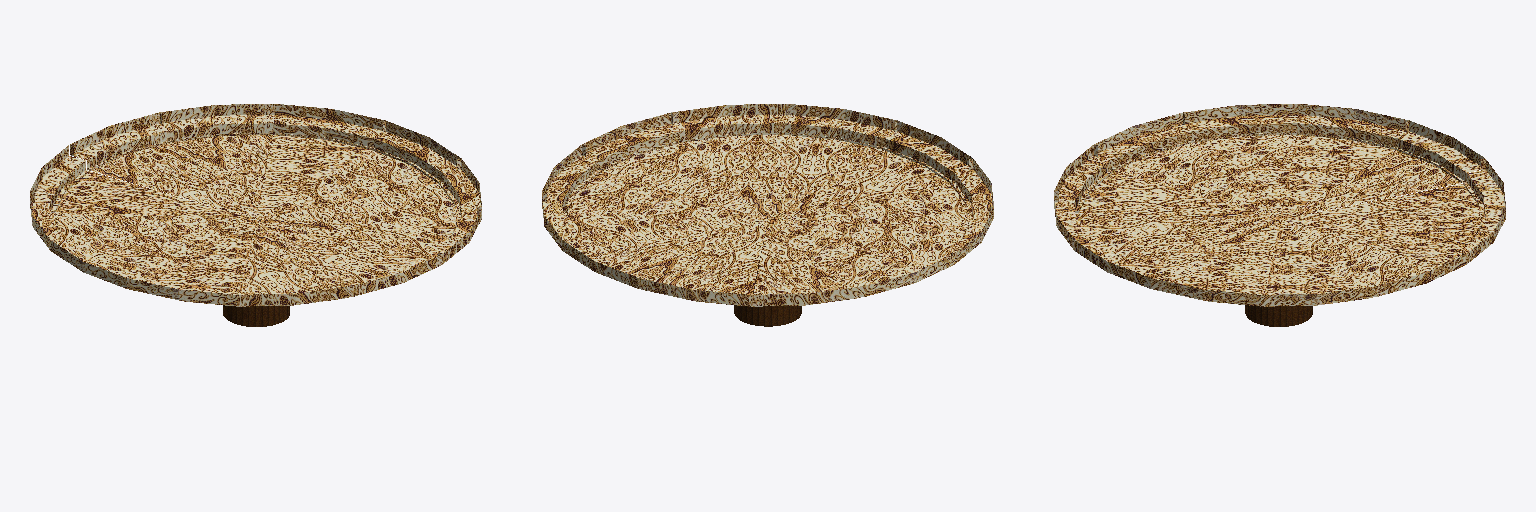
3 renders of one model, left to right at view 1: azimuth 30°, elevation 25°; view 2: azimuth 150°, elevation 25°; view 3: azimuth 270°, elevation 25°, orthographic.
Parts seen in each view (by area): view 1: Group_3_008.001, Group_3_007.001, Group_3_001.001, Group_3_002.001, Group_3_005.001, Group_3_003.001, Group_3_012.001, Group_3_006.001, Group_3_011.001, Group_3_004.001, Group_3_010.001, Group_3_009.001 (+1 smaller); view 2: Group_3_006.001, Group_3_004.001, Group_3_003.001, Group_3_010.001, Group_3_002.001, Group_3_009.001, Group_3_007.001, Group_3_011.001, Group_3_008.001, Group_3_012.001, Group_3_005.001, Group_3_001.001 (+1 smaller); view 3: Group_3_011.001, Group_3_012.001, Group_3_009.001, Group_3_005.001, Group_3_010.001, Group_3_001.001, Group_3_004.001, Group_3_008.001, Group_3_006.001, Group_3_007.001, Group_3_002.001, Group_3_003.001 (+1 smaller).
Part boxes in pixels (left/top/right/bottom): Group_3_008.001: left=160, top=104, right=274, bottom=218; Group_3_007.001: left=256, top=104, right=385, bottom=218; Group_3_001.001: left=70, top=112, right=255, bottom=219; Group_3_002.001: left=256, top=121, right=460, bottom=219; Group_3_005.001: left=30, top=145, right=254, bottom=219; Group_3_003.001: left=257, top=158, right=481, bottom=226; Group_3_012.001: left=30, top=198, right=251, bottom=254; Group_3_006.001: left=259, top=207, right=481, bottom=265; Group_3_011.001: left=51, top=220, right=254, bottom=288; Group_3_004.001: left=257, top=220, right=442, bottom=298; Group_3_010.001: left=237, top=220, right=352, bottom=306; Group_3_009.001: left=127, top=220, right=255, bottom=306; Group_3_006.001: left=671, top=104, right=786, bottom=218; Group_3_004.001: left=768, top=104, right=896, bottom=218; Group_3_003.001: left=582, top=113, right=767, bottom=219; Group_3_010.001: left=768, top=120, right=972, bottom=219; Group_3_002.001: left=542, top=145, right=766, bottom=219; Group_3_009.001: left=769, top=159, right=993, bottom=226; Group_3_007.001: left=542, top=198, right=763, bottom=254; Group_3_011.001: left=771, top=207, right=993, bottom=265; Group_3_008.001: left=562, top=220, right=766, bottom=288; Group_3_012.001: left=769, top=220, right=954, bottom=298; Group_3_005.001: left=749, top=220, right=864, bottom=306; Group_3_001.001: left=638, top=220, right=767, bottom=306; Group_3_011.001: left=1183, top=104, right=1297, bottom=218; Group_3_012.001: left=1280, top=104, right=1408, bottom=218; Group_3_009.001: left=1094, top=113, right=1279, bottom=219; Group_3_005.001: left=1280, top=120, right=1484, bottom=219; Group_3_010.001: left=1054, top=145, right=1278, bottom=219; Group_3_001.001: left=1281, top=159, right=1505, bottom=226; Group_3_004.001: left=1054, top=198, right=1275, bottom=254; Group_3_008.001: left=1283, top=207, right=1505, bottom=265; Group_3_006.001: left=1075, top=220, right=1278, bottom=288; Group_3_007.001: left=1281, top=220, right=1465, bottom=298; Group_3_002.001: left=1261, top=220, right=1376, bottom=306; Group_3_003.001: left=1151, top=220, right=1279, bottom=306.
Size of the model in its own units: 62.82 by 17.39 by 62.82.
Materials: 5 (2 with a texture image).